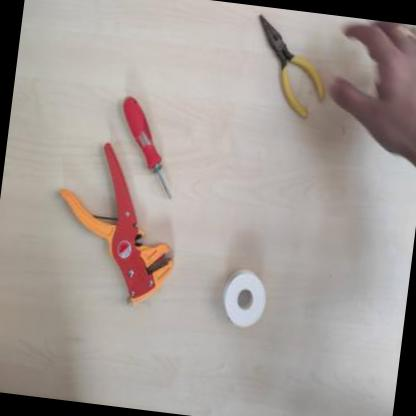Screwdriver: (108, 94, 186, 202)
